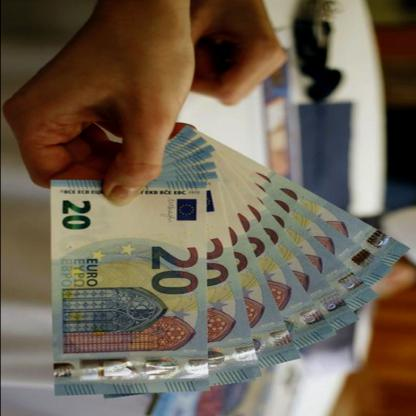euro_banknote: (23, 209, 240, 366), (103, 248, 323, 309)
